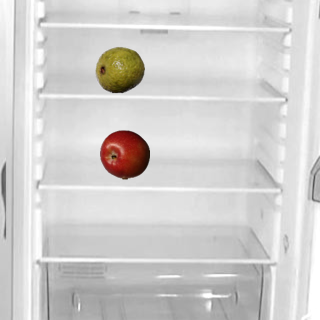Apple Braeburn: (99, 129, 149, 179)
Guava: (94, 44, 144, 94)
